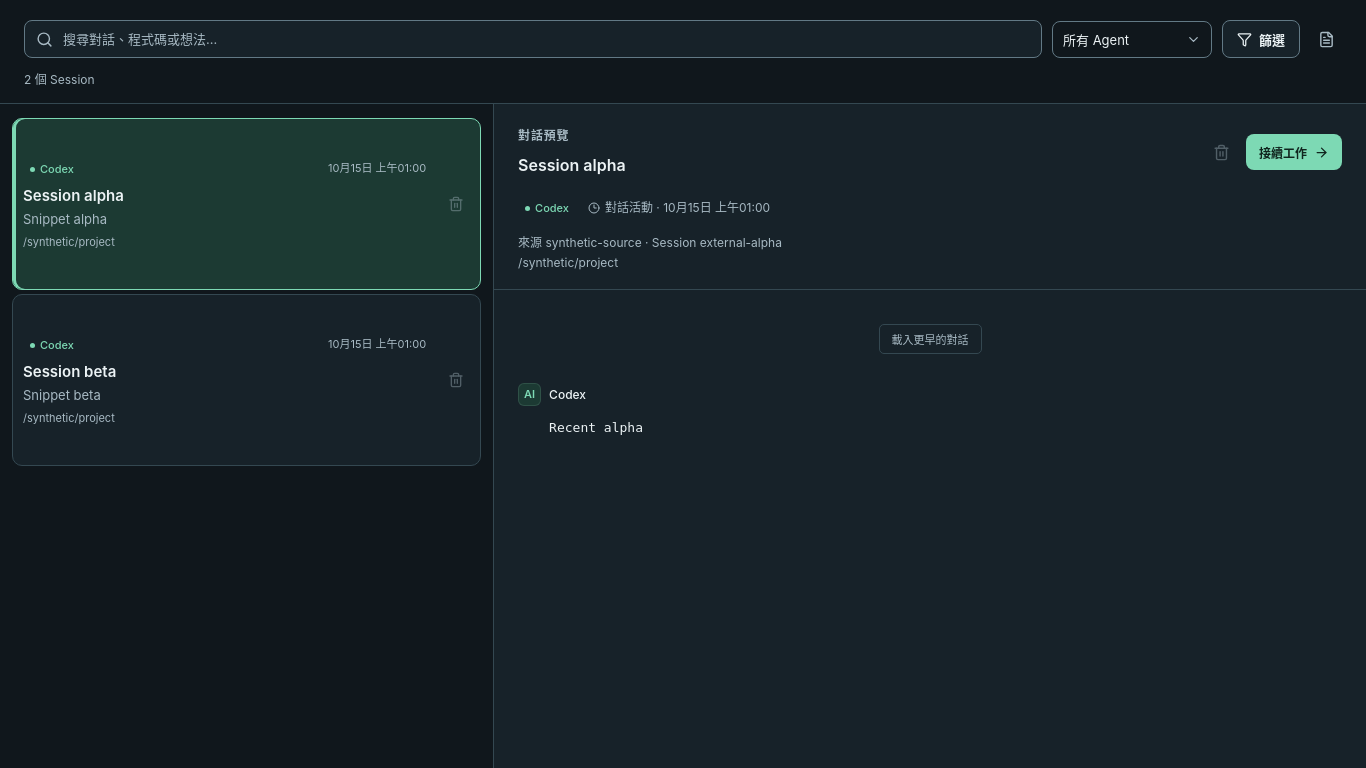
Test: HistoryView asynchronous race protection › ignores late load-earlier results after switching sessions
Click the button "載入更早的對話" at (930, 340), box [878,324,982,354]
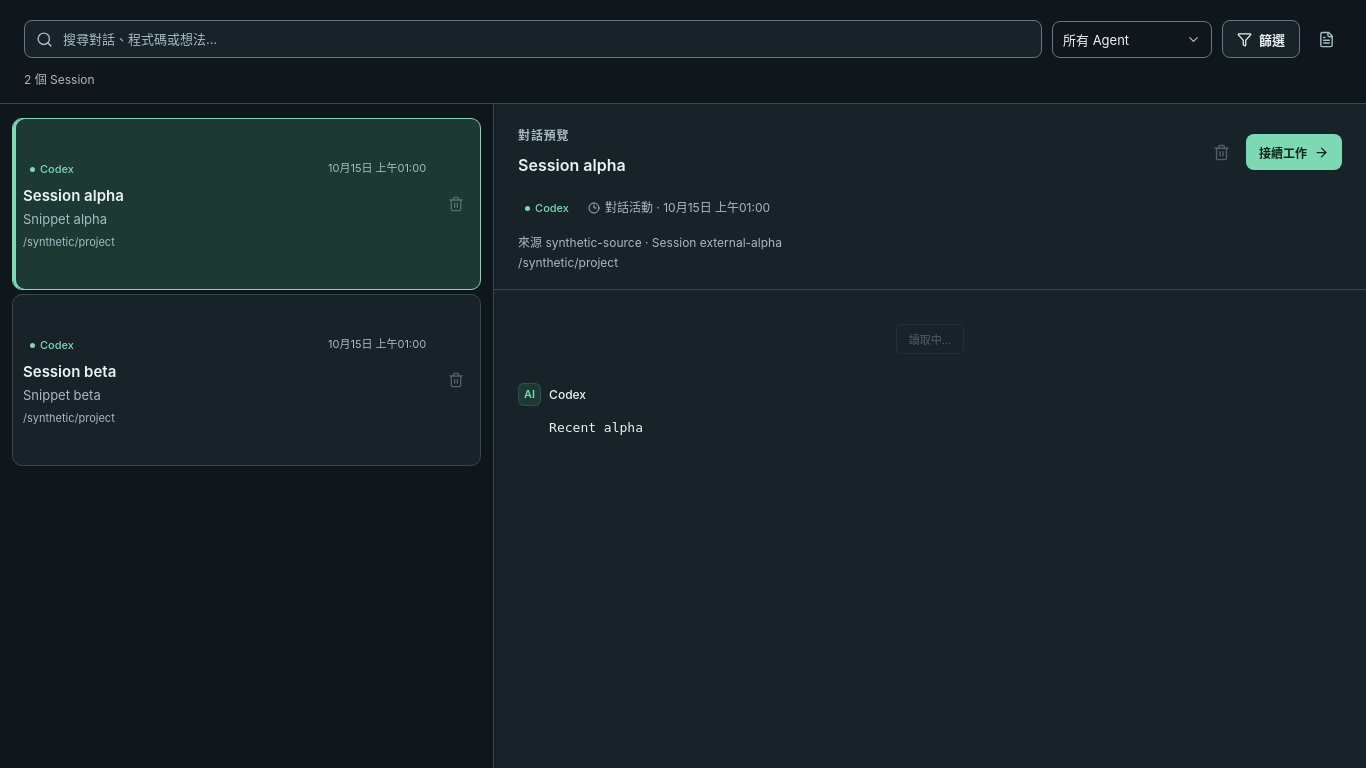
Click the 7th button at (57, 345), box [13,295,436,465]
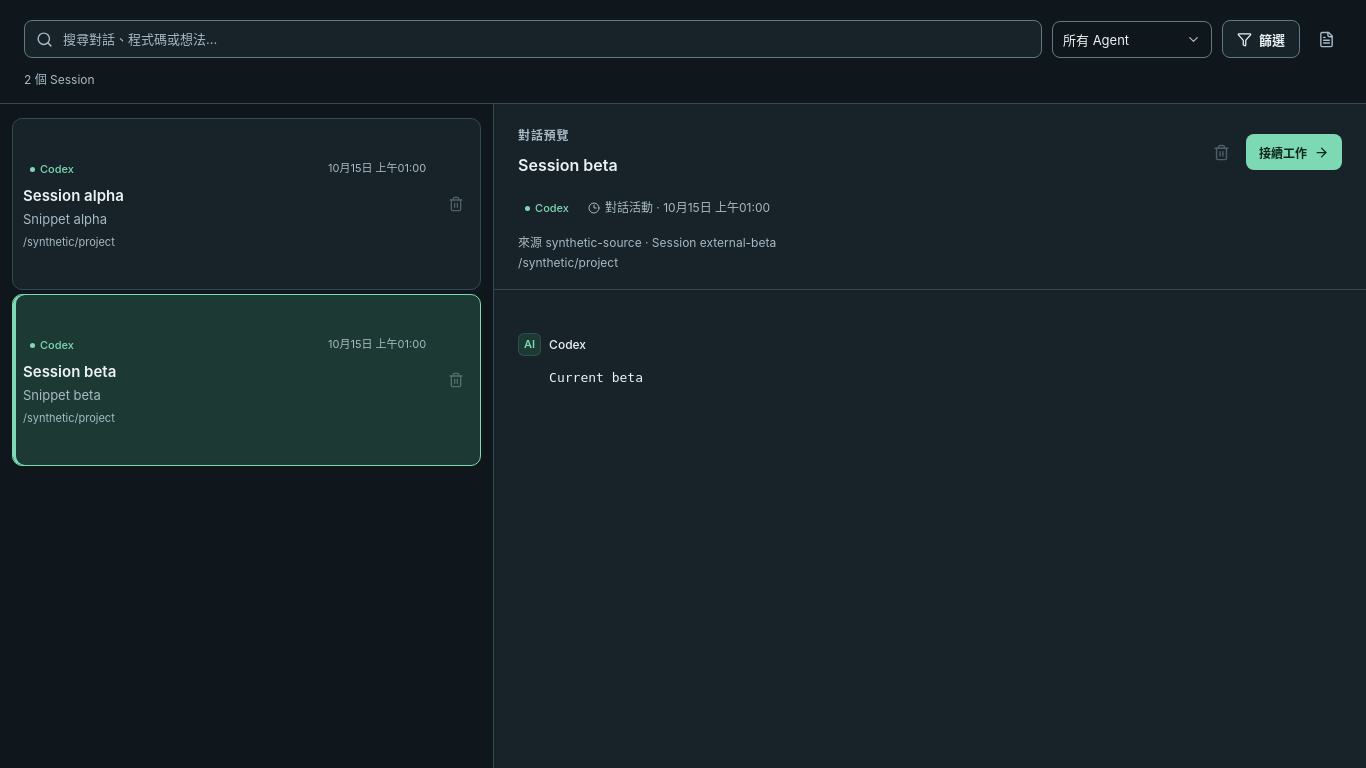
Result: the text "Current beta" is shown at [549,370,643,386]
